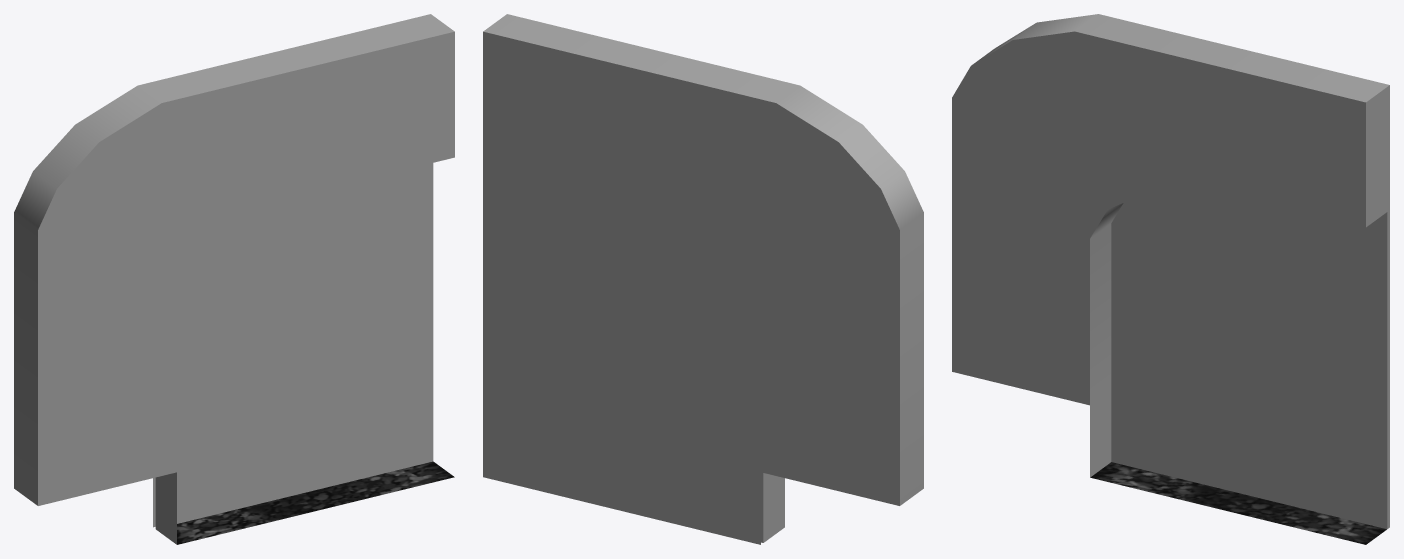
File: tunnel.fbx
The picture shows the model from 3 angles, left to right: view 1: azimuth 30°, elevation 25°; view 2: azimuth 150°, elevation 25°; view 3: azimuth 330°, elevation 25°; orthographic projection.
Visible parts, largest first — view 1: tunnel; view 2: tunnel; view 3: tunnel.
Boxes of the visible parts, x1,y1,x2,y2 form: tunnel: (14, 14, 454, 544); tunnel: (483, 14, 923, 544); tunnel: (952, 14, 1389, 544).
Bounding box in the file's own units: 3 × 3.06 × 0.3.
